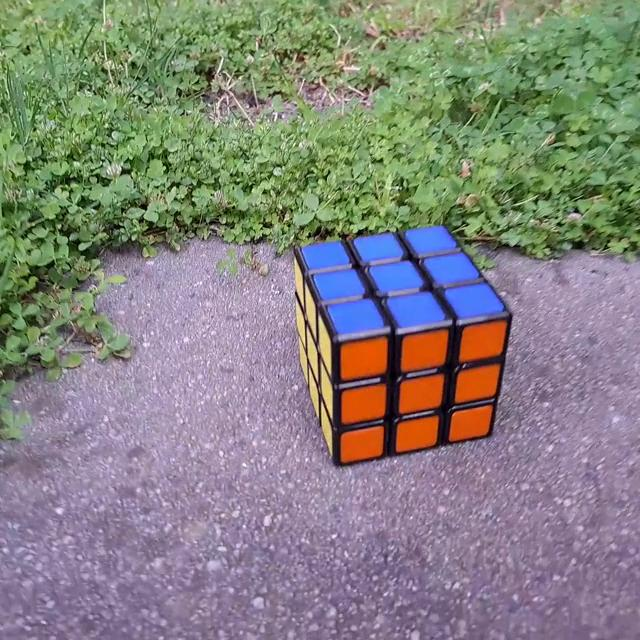rubix_cube: (286, 220, 516, 472)
